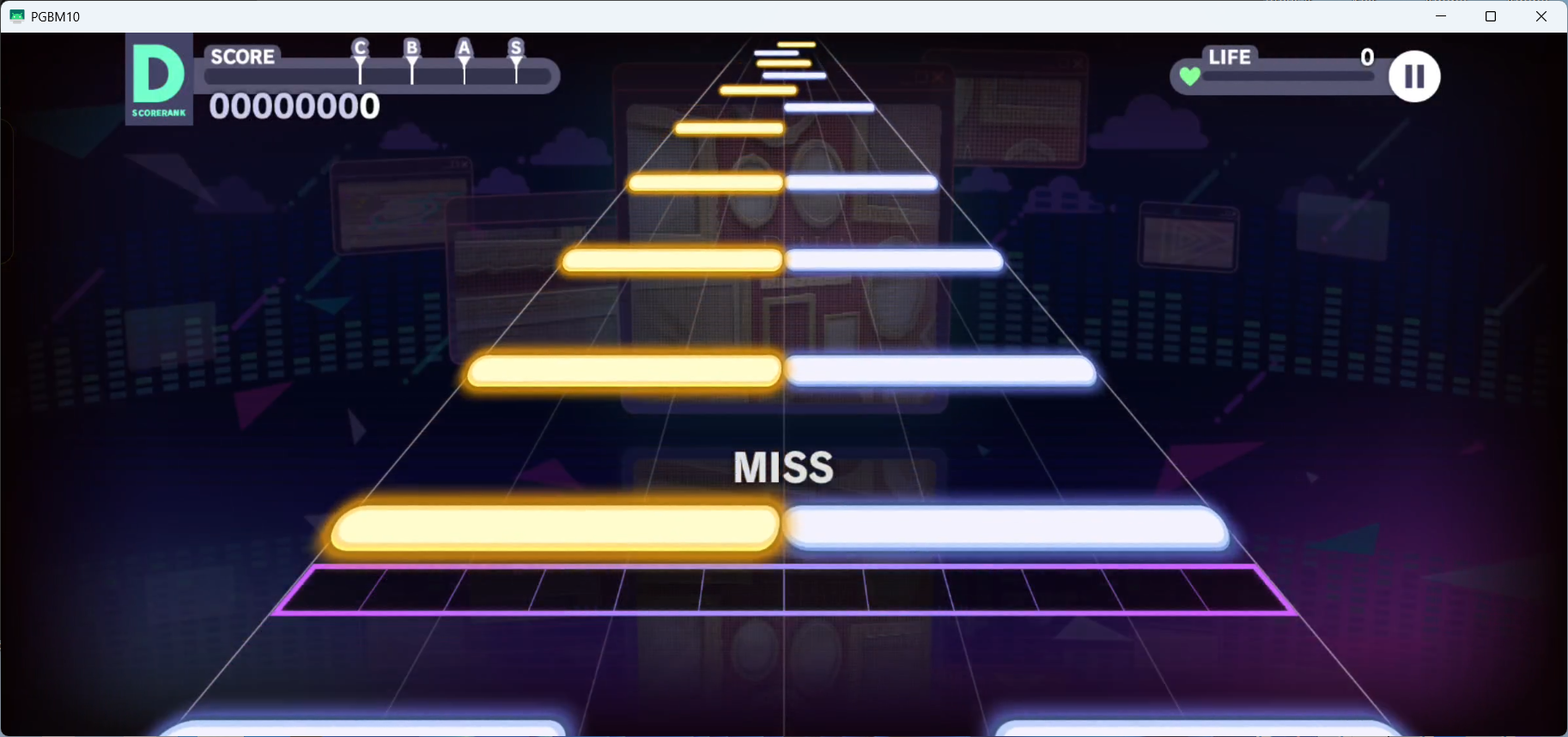tap: (784, 505, 1228, 551), (331, 505, 779, 550), (465, 353, 783, 388), (786, 353, 1097, 386), (988, 718, 1401, 737), (162, 719, 568, 737), (786, 248, 1004, 273), (561, 248, 783, 271), (627, 173, 784, 191), (785, 175, 938, 190), (676, 123, 782, 133), (783, 102, 874, 112), (720, 85, 796, 94), (763, 72, 826, 79), (757, 59, 811, 67), (754, 51, 799, 56), (777, 42, 815, 47)
